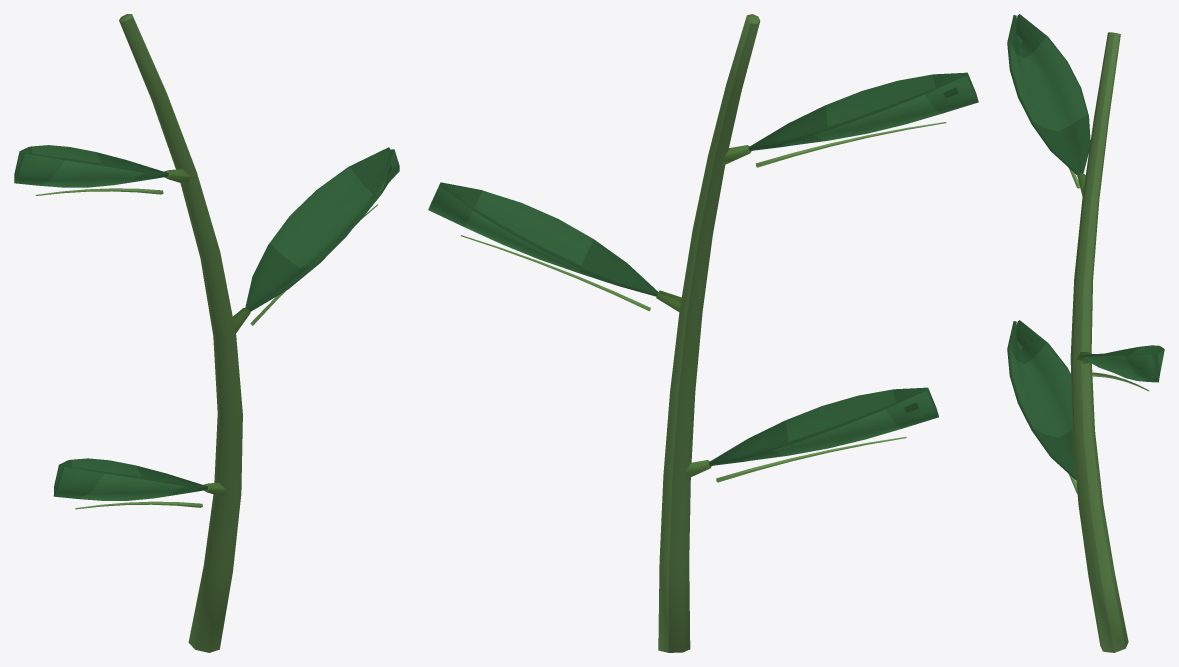
File: garden-rose-bud-stem-0.glb
3 views of the same model, side by side, from view 1: azimuth 30°, elevation 25°; view 2: azimuth 150°, elevation 25°; view 3: azimuth 270°, elevation 25° (orthographic). The views are drawn at different scales.
Visible parts, largest first — view 1: rose-bud-stem-0; view 2: rose-bud-stem-0; view 3: rose-bud-stem-0.
Boxes of the visible parts, <box> form: rose-bud-stem-0: <box>14,14,399,652</box>; rose-bud-stem-0: <box>428,14,978,652</box>; rose-bud-stem-0: <box>1007,14,1164,652</box>.
Size of the model in its own units: 0.2291 by 0.3054 by 0.0749.
